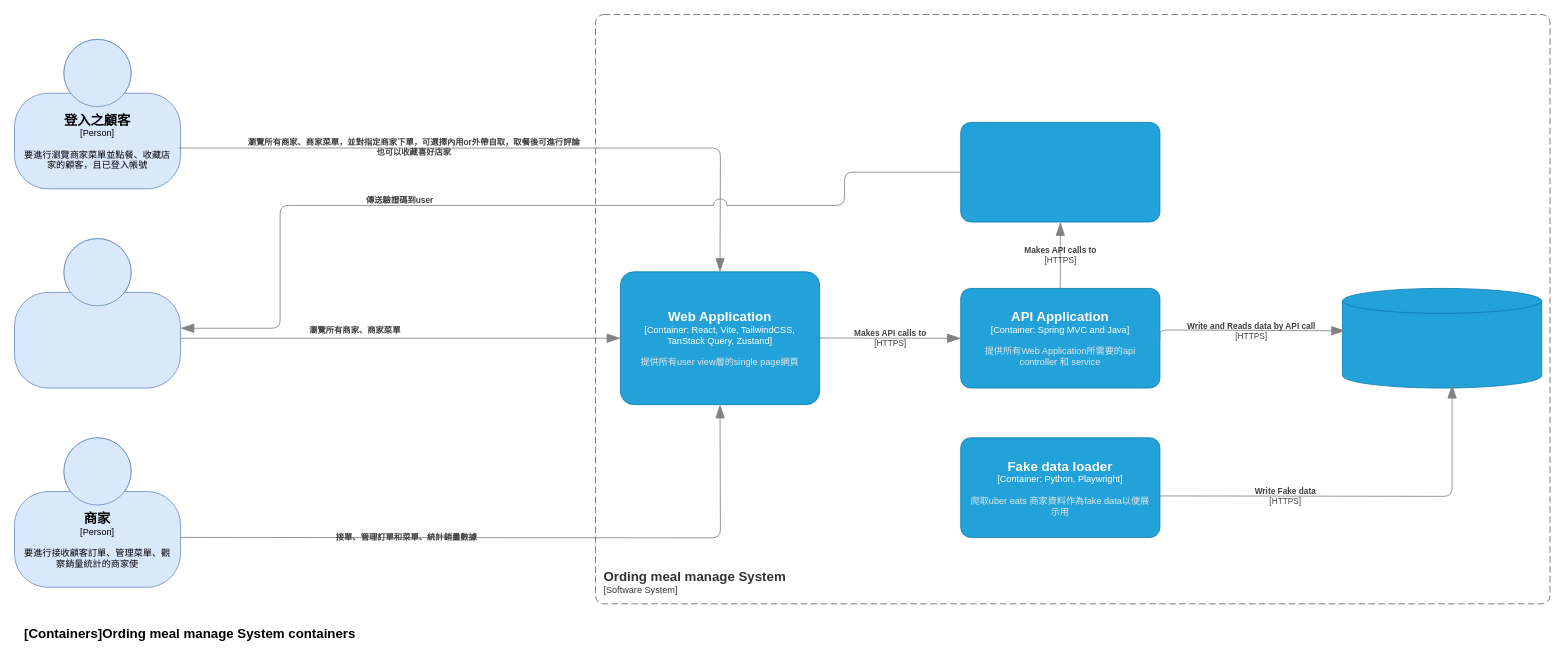
This 1565x668 diagram has some shape labels left out. Each missing label, with the centre of its shape:
Container name [Container: MongoDB] 儲存所有的user資料，包含顧客和商家的所有資料collections: [1442,338]
Email validation sender [Container: Java] 對於使用者註冊帳號時發送email驗證的service: [1060,172]
未登入之顧客 [Person] 要進行瀏覽商家菜單的顧客，但未登入帳號: [97,313]
